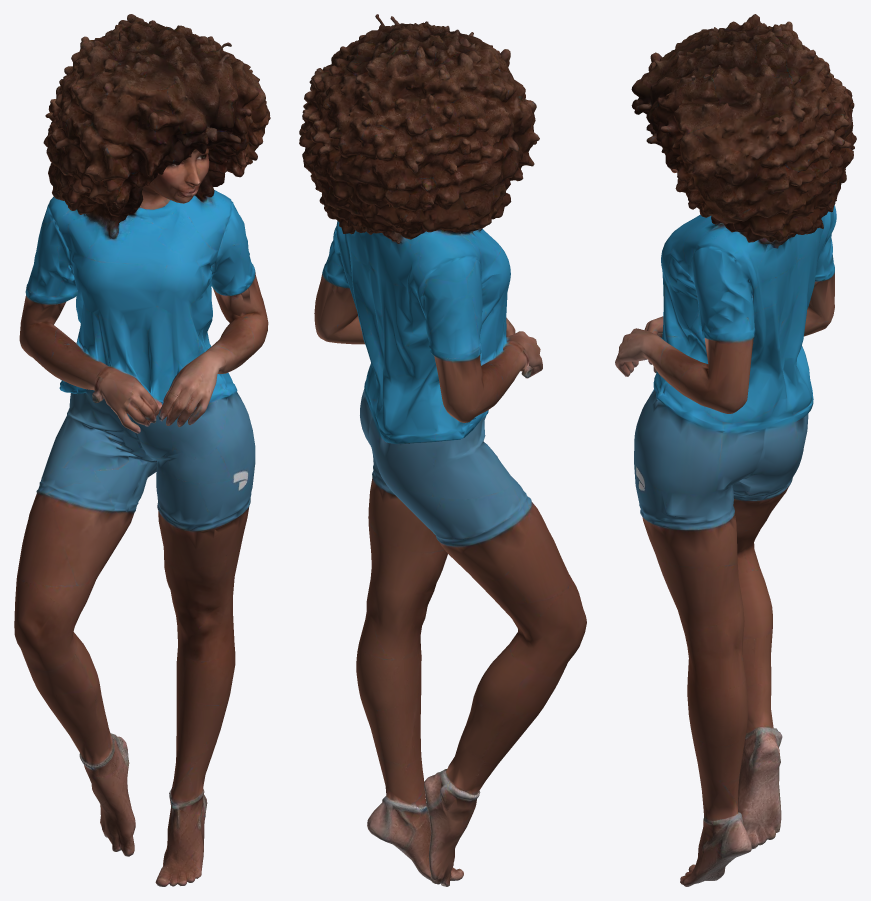
File: joggeuse-bleue.glb
The picture shows the model from 3 angles, left to right: view 1: azimuth 30°, elevation 25°; view 2: azimuth 150°, elevation 25°; view 3: azimuth 270°, elevation 25°; orthographic projection. The views are drawn at different scales.
Parts seen in each view (by area): view 1: mesh_node; view 2: mesh_node; view 3: mesh_node.
Boxes of the visible parts, <box> form: mesh_node: <box>14,14,270,886</box>; mesh_node: <box>299,14,586,886</box>; mesh_node: <box>615,14,856,886</box>.
Size of the model in its own units: 0.6046 by 1.9 by 0.4913.
1 material, 1 textured.
